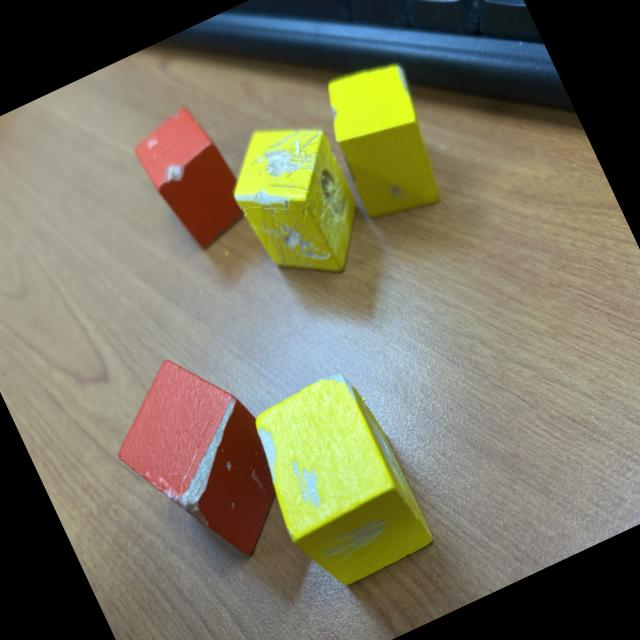broken: (89, 334, 309, 590), (234, 361, 439, 600), (210, 103, 382, 300), (310, 49, 462, 232), (124, 98, 258, 260)
